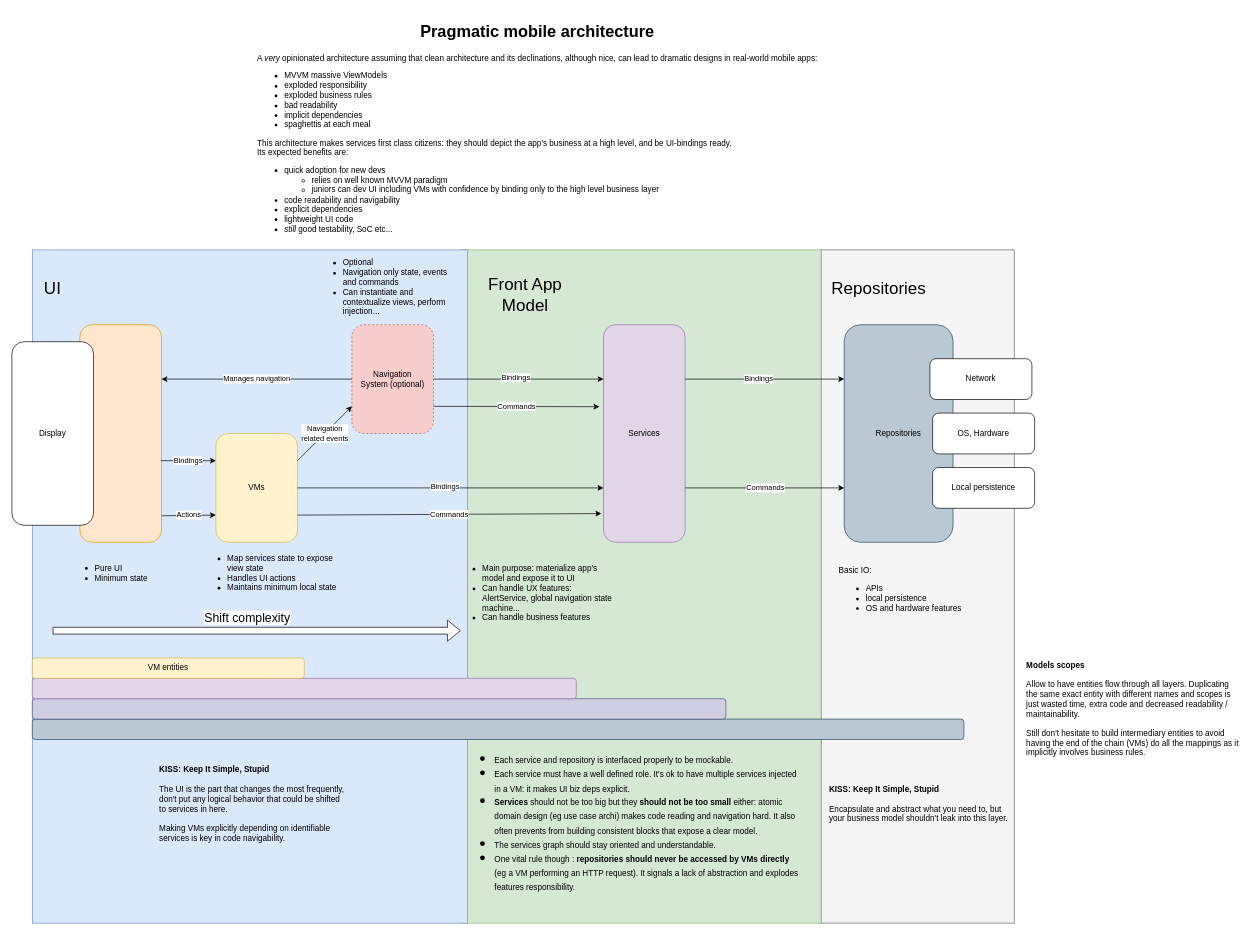
Image size: 1255x945. Some labels were removed from this diagram. The centre of each missing label's shape, as x and y in pixels:
"Business entities" goes at point 379,708.
"IO entities" goes at point 498,729.
"UX entities" goes at point 304,688.
"Views" goes at point 120,433.
